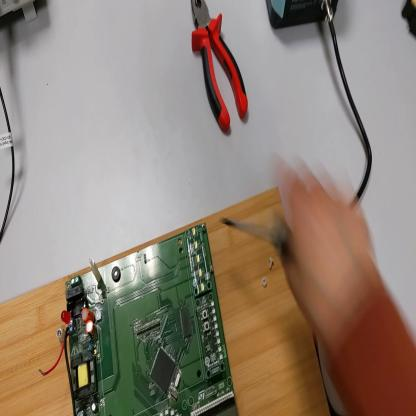hand: (277, 154, 380, 346)
low voltage board: (41, 220, 240, 416)
oscilloscope: (2, 1, 40, 28)
pliers: (190, 2, 249, 136)
screwdriver-: (212, 212, 294, 261)
welder base: (403, 2, 415, 42)
welder station: (267, 2, 339, 31)
working area: (1, 192, 332, 416)
